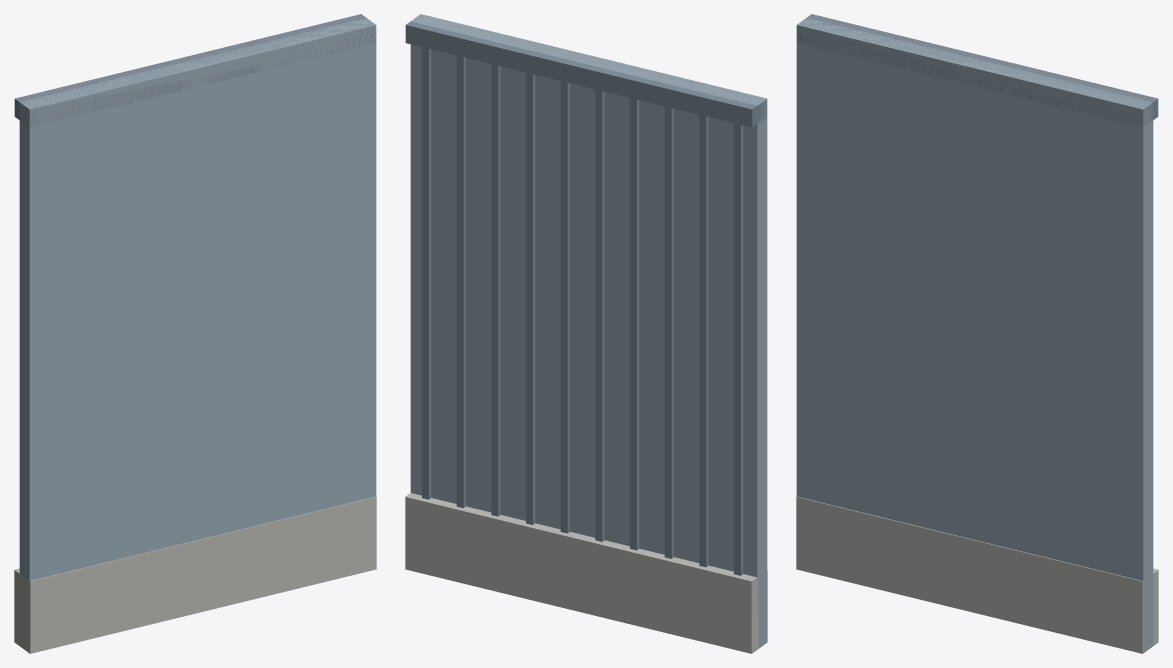
File: WH_Wall.fbx
3 renders of one model, left to right at view 1: azimuth 30°, elevation 25°; view 2: azimuth 150°, elevation 25°; view 3: azimuth 330°, elevation 25°, orthographic.
Visible parts, largest first — view 1: WH_Wall; view 2: WH_Wall; view 3: WH_Wall.
Boxes of the visible parts, x1=… form: WH_Wall: x1=14, y1=14, x2=376, y2=653; WH_Wall: x1=405, y1=14, x2=767, y2=653; WH_Wall: x1=796, y1=14, x2=1158, y2=653.
Size of the model in its own units: 4 by 6 by 0.32.
